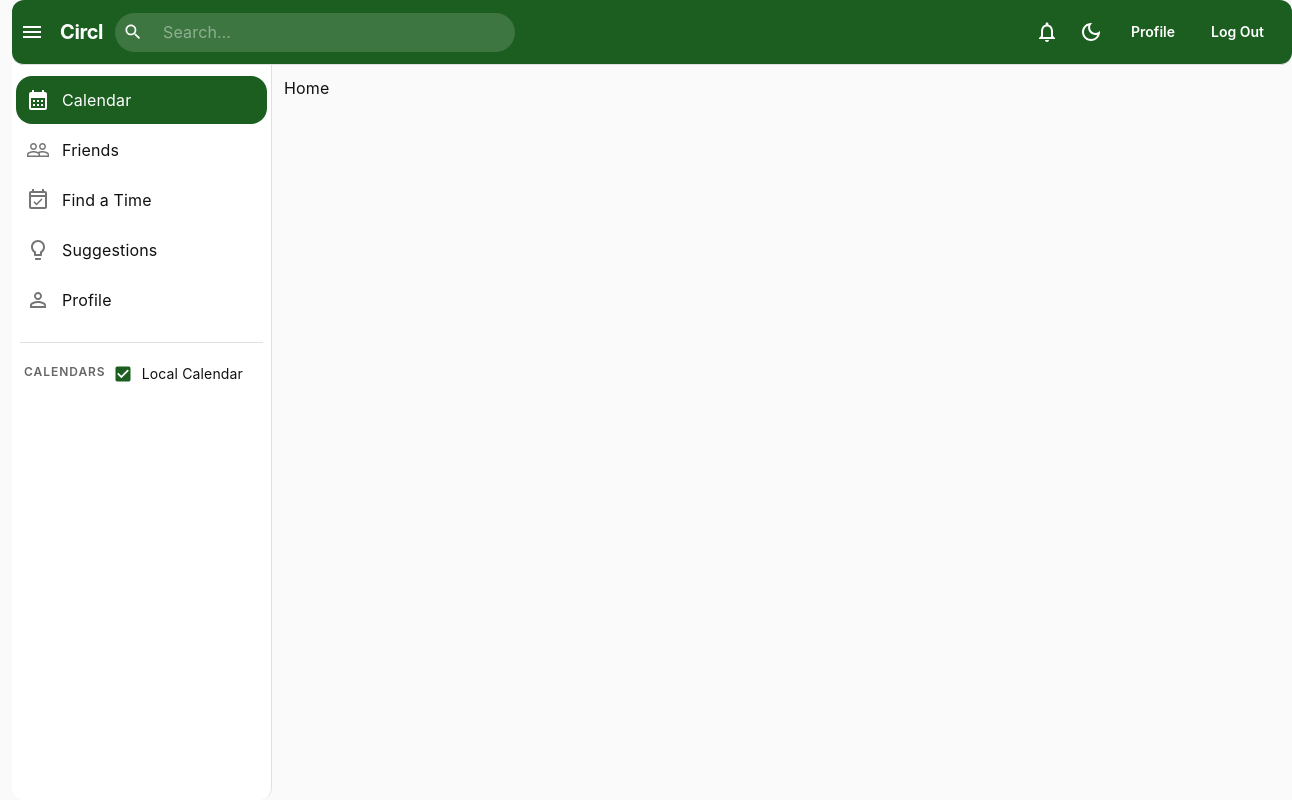
Test case: AppLayout › Desktop layout (>= 900px) › toggles sidebar collapse on menu button click
This screenshot has width=1292, height=800.
Expected: the text "Calendars" is shown, x1=24 y1=364 x2=106 y2=379
Note: Click to collapse
Click the button named "toggle sidebar" at (32, 32), box x1=12 y1=12 x2=52 y2=52
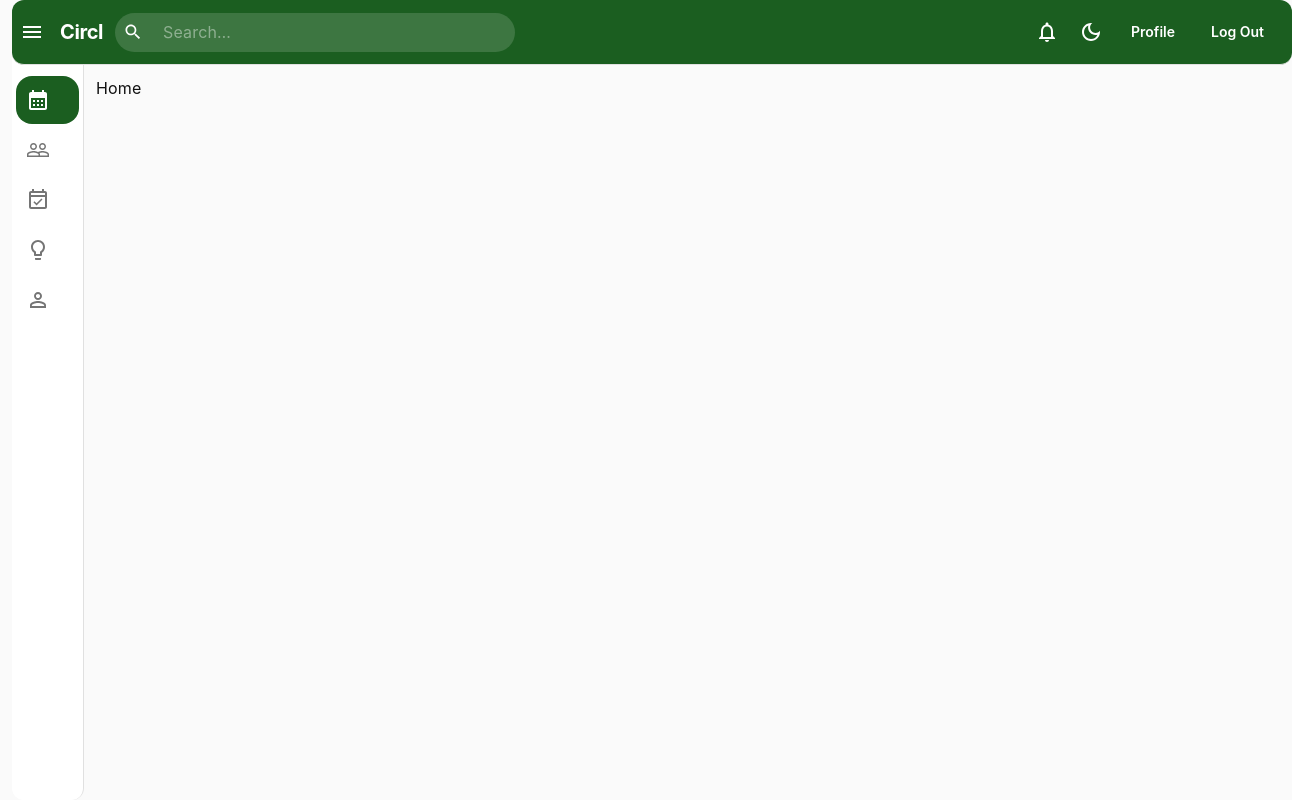
Result: the text "Calendars" is gone
